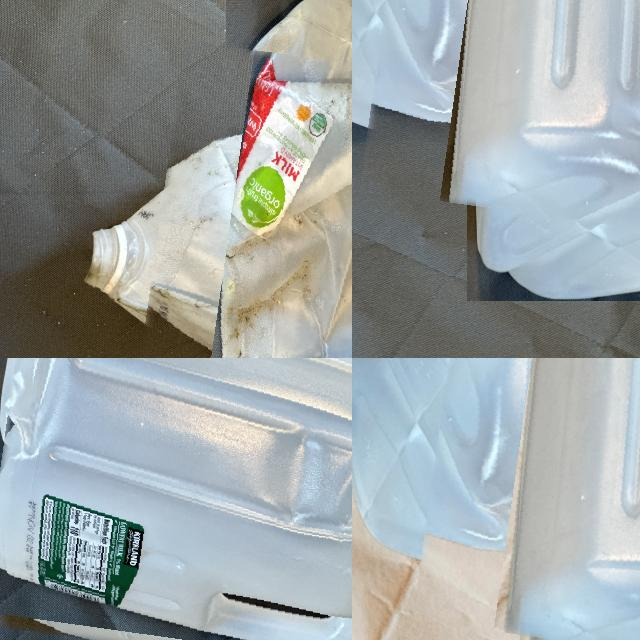milk-jug: (0, 358, 352, 640), (142, 52, 352, 358), (372, 0, 640, 234), (425, 358, 640, 640)
